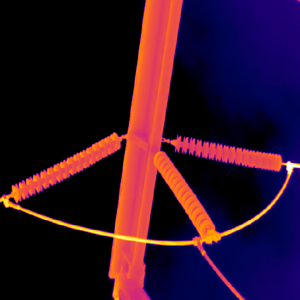insulator: (11, 131, 120, 201), (152, 149, 214, 237), (172, 133, 282, 173)
